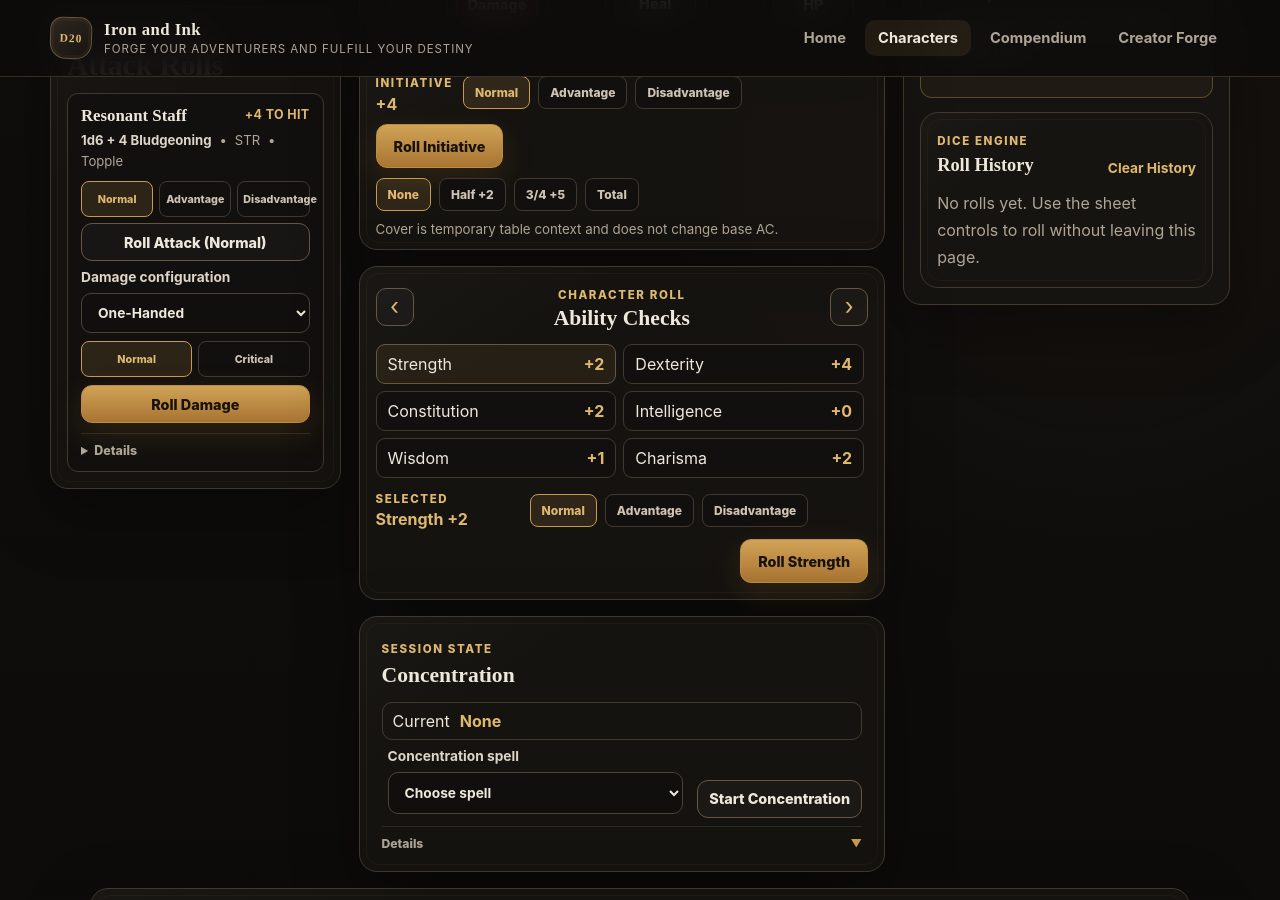
Test: PLAY dashboard Attack Rolls › includes a weapon item damage bonus in compact and alternate damage summaries
The width and height of the screenshot is (1280, 900).
(page scrolled)
Expected: the element "Attack Rolls" is shown, [50,6,340,489]
Expected: the text "1d6 + 4 Bludgeoning" is shown, [81,132,212,148]
Click the heading "Details" below "Damage configuration" at (116, 451), box [94,443,137,458]
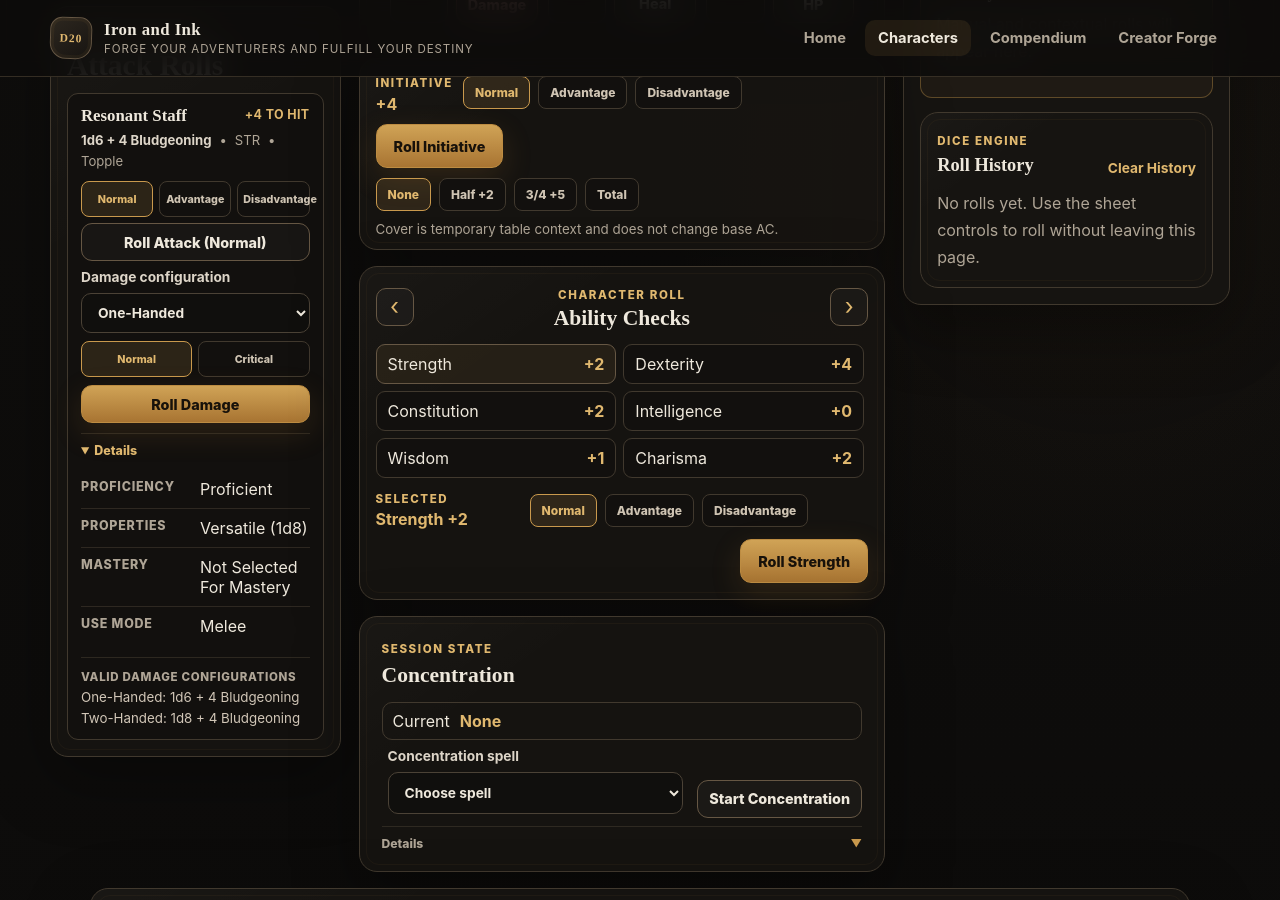
Expected: the text "one-handed: 1d6 + 4 Bludgeoning" is shown, [81,689,310,705]
Expected: the text "two-handed: 1d8 + 4 Bludgeoning" is shown, [81,710,310,726]
